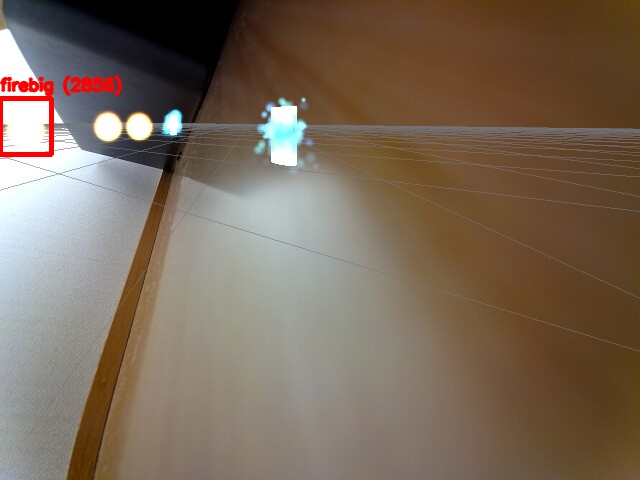firebig: (0, 98, 51, 154)
